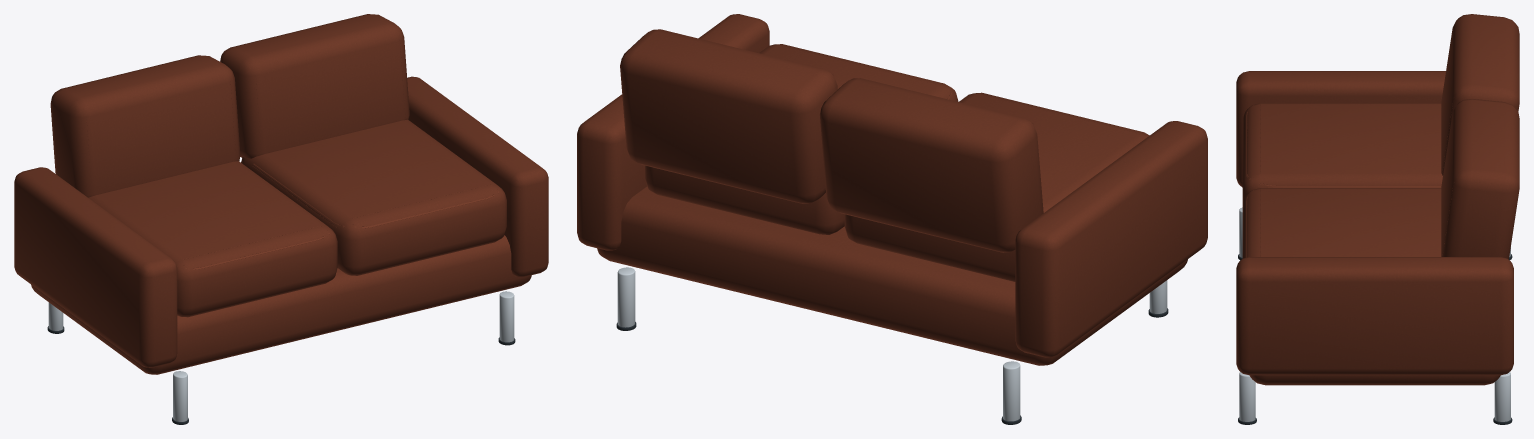
File: loveseat.glb
The picture shows the model from 3 angles, left to right: view 1: azimuth 30°, elevation 25°; view 2: azimuth 150°, elevation 25°; view 3: azimuth 270°, elevation 25°; orthographic projection. The views are drawn at different scales.
Parts seen in each view (by area): view 1: loveseat authored assembly; view 2: loveseat authored assembly; view 3: loveseat authored assembly.
Part boxes in pixels (x1,y1,x2,y2): loveseat authored assembly: (14,14,548,424); loveseat authored assembly: (577,14,1207,424); loveseat authored assembly: (1236,14,1519,424).
Bounding box in the file's own units: 1.45 × 0.82 × 0.85.
Materials: 4 (1 with a texture image).
